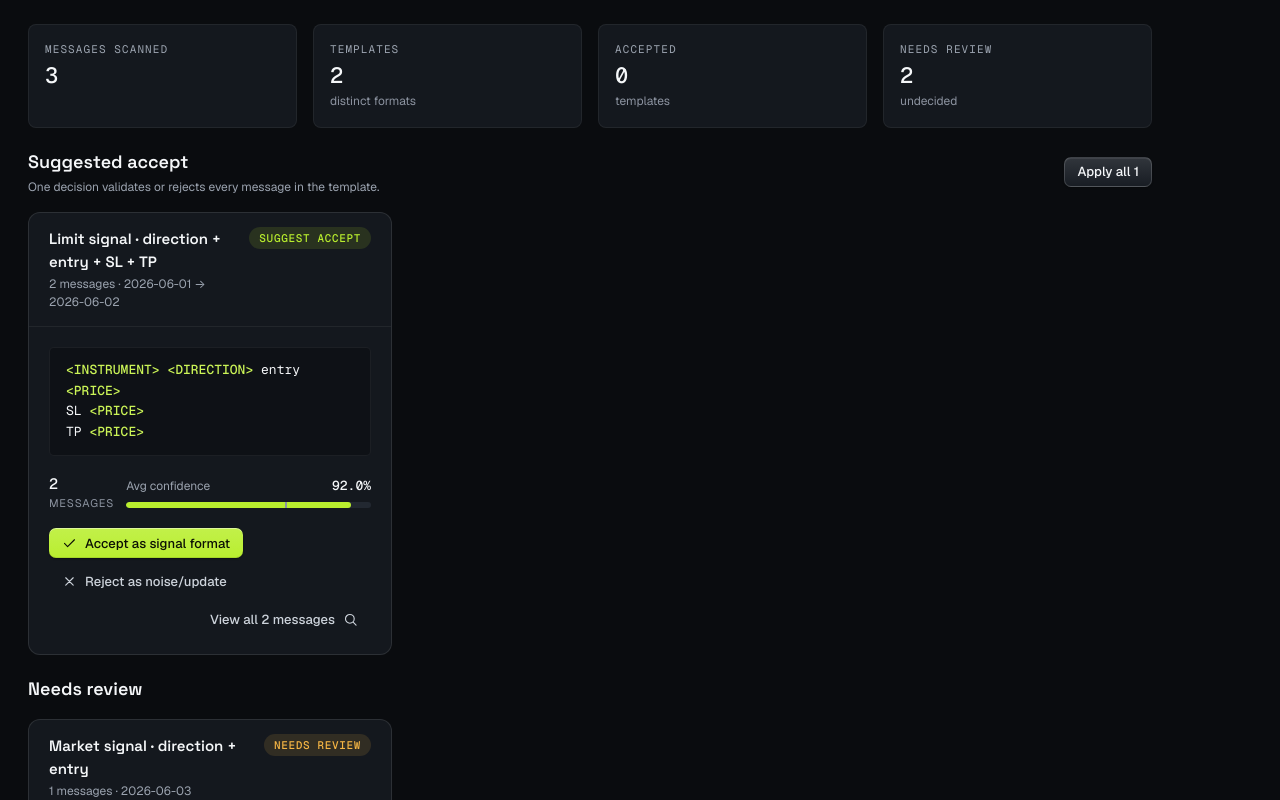
Test: TemplateMiningPage › closes the examples modal after Reject
expect the text "Suggested accept" is shown: met, box 28,150 -> 188,173
Click the button "View all 2 messages" at (284, 619), box 197,604 -> 371,634
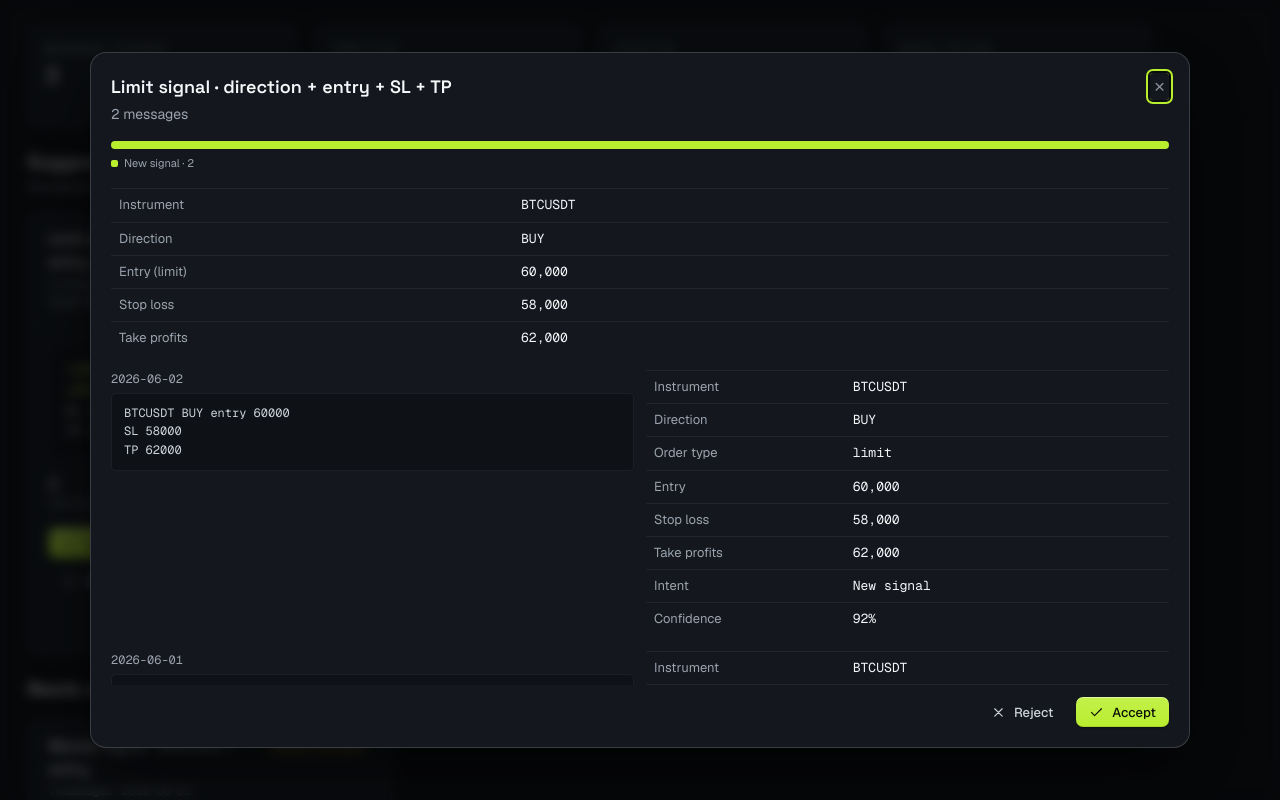
Click the button "Reject" at (1022, 712), box 978,697 -> 1066,727
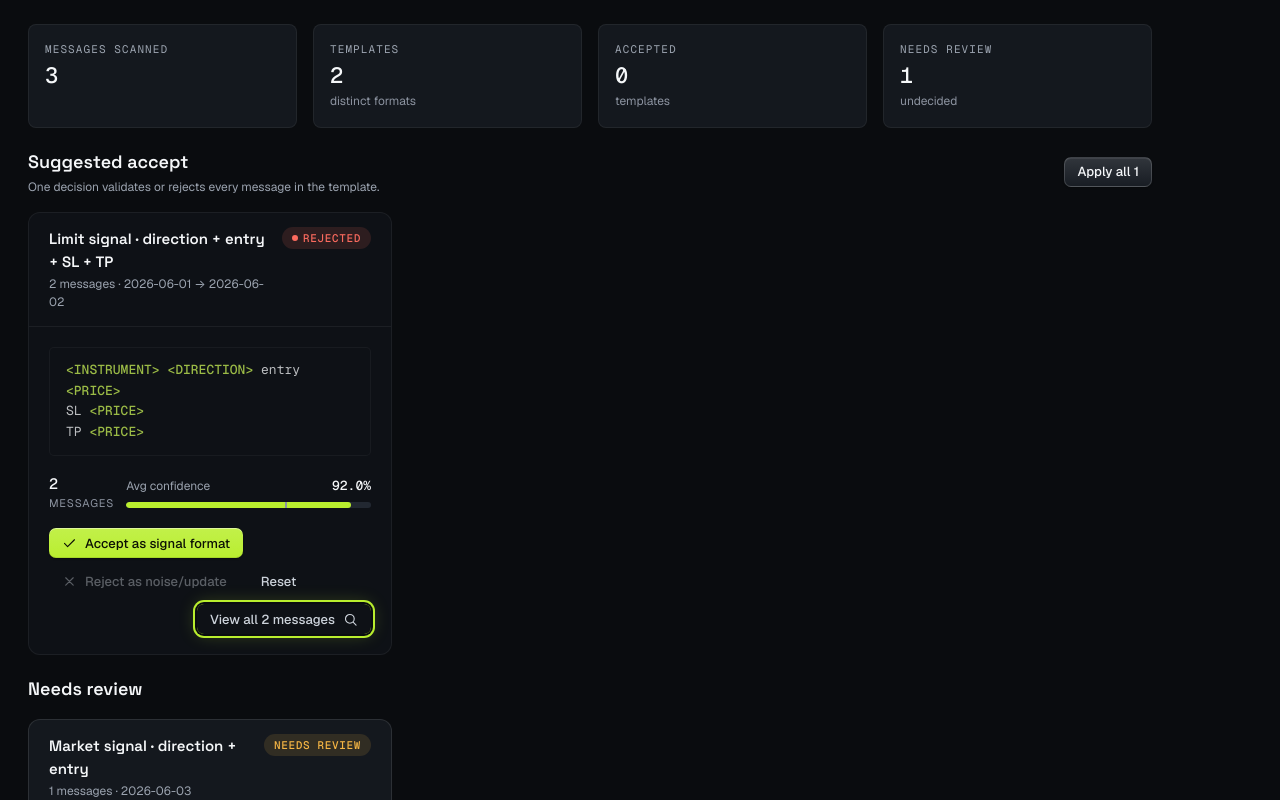
expect the dialog is gone: met
